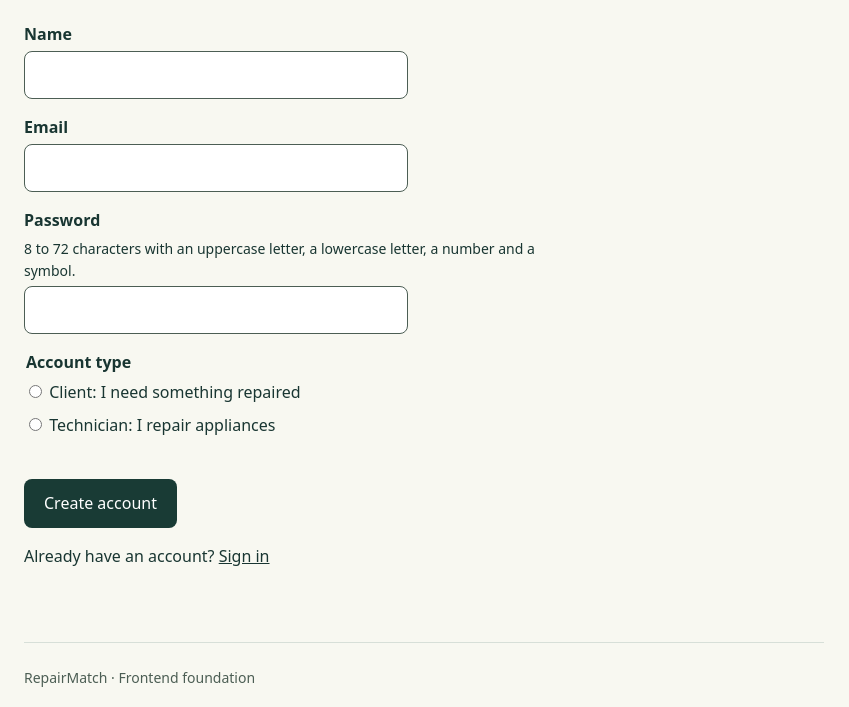
Test: register form › does not flash the busy state when the form is invalid
The image size is (849, 707).
(page scrolled)
Click the button "Create account". click: {"x": 100, "y": 504}
box: x1=24 y1=479 x2=177 y2=528
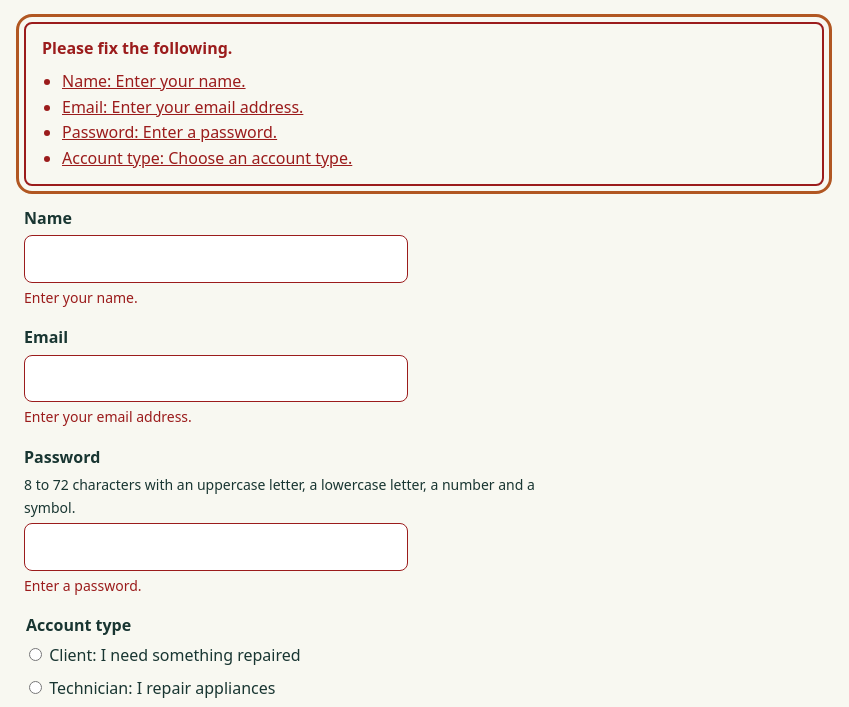
Expected: the message is shown, x1=24 y1=22 x2=824 y2=186
